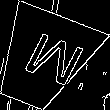M_SW: (7, 27, 79, 92)
